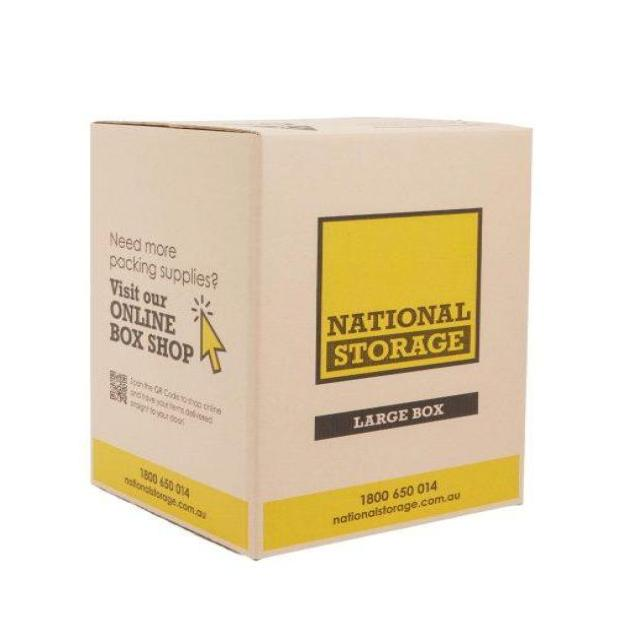Pathole: (80, 100, 541, 564)
